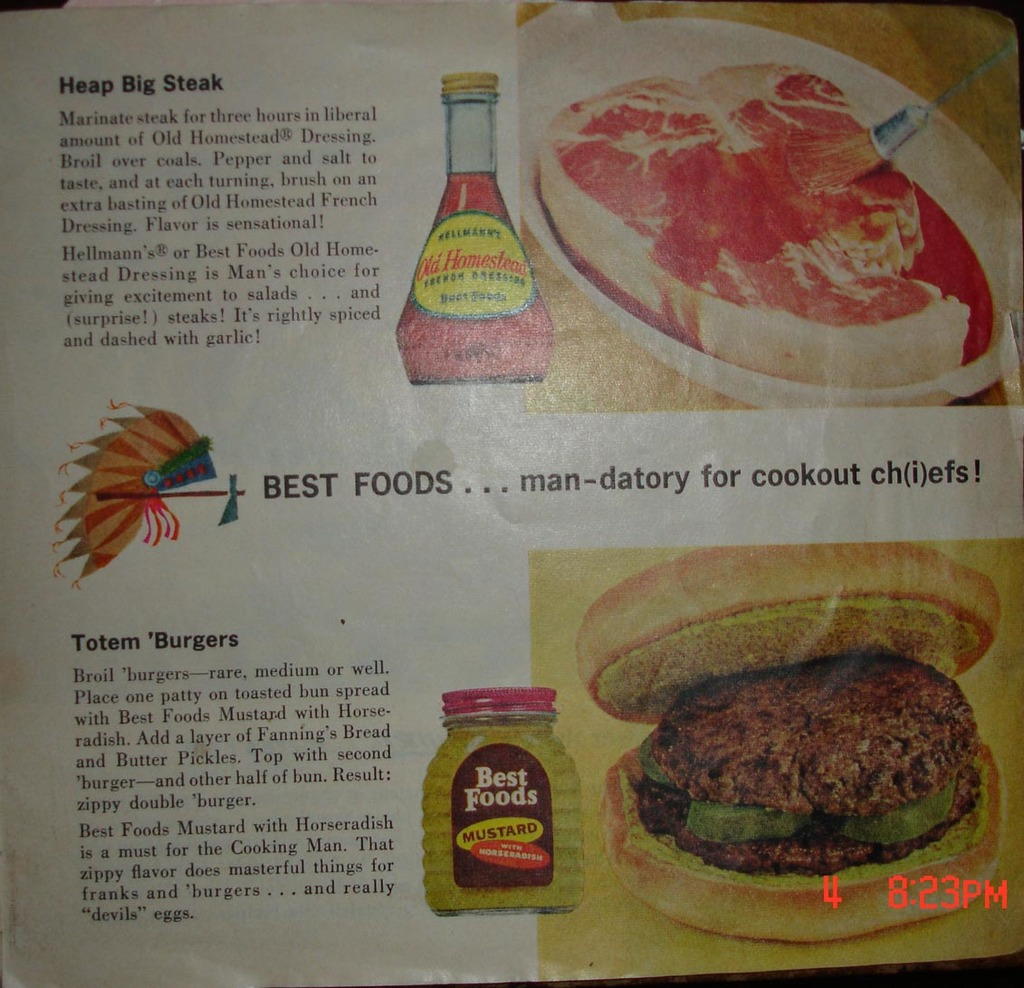Hamburger: (574, 536, 1007, 943)
